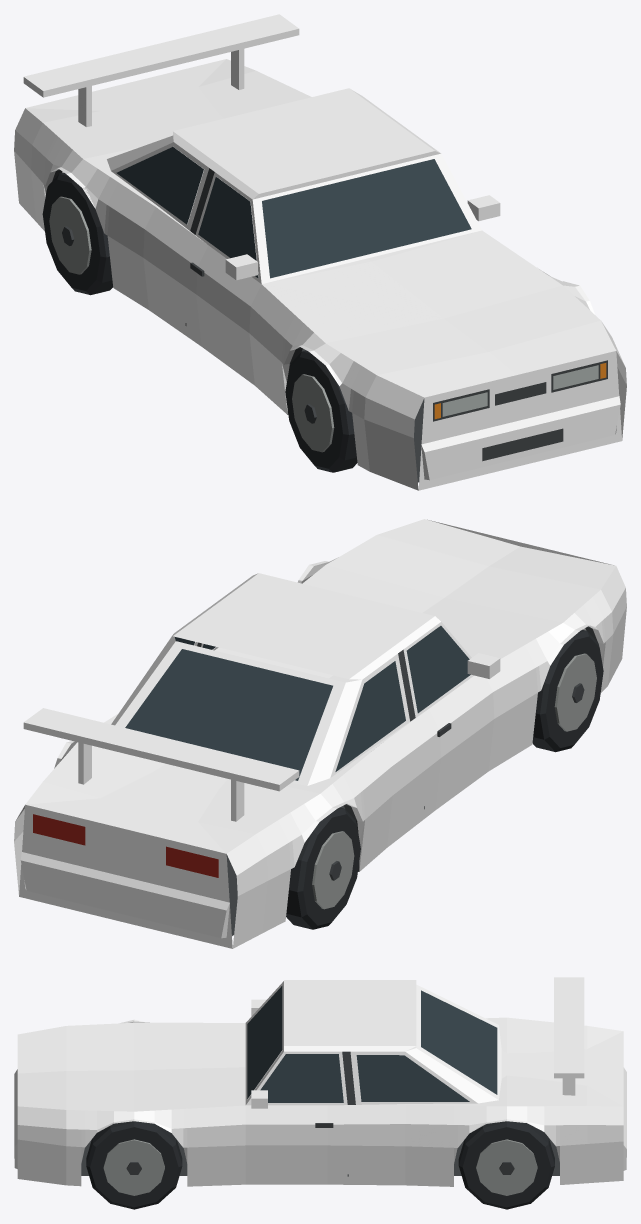
The model's file is hayase_kurogane_corrida.glb.
3 views of the same model, one above another, from view 1: azimuth 30°, elevation 25°; view 2: azimuth 150°, elevation 25°; view 3: azimuth 270°, elevation 25° (orthographic). The views are drawn at different scales.
Parts seen in each view (by area): view 1: hayase_kurogane_corrida; view 2: hayase_kurogane_corrida; view 3: hayase_kurogane_corrida.
Boxes of the visible parts, x1=… form: hayase_kurogane_corrida: x1=14, y1=14, x2=626, y2=490; hayase_kurogane_corrida: x1=14, y1=519, x2=626, y2=948; hayase_kurogane_corrida: x1=14, y1=977, x2=626, y2=1209.
Bounding box in the file's own units: 1.74 × 1.19 × 4.44.
8 materials, 1 textured.
